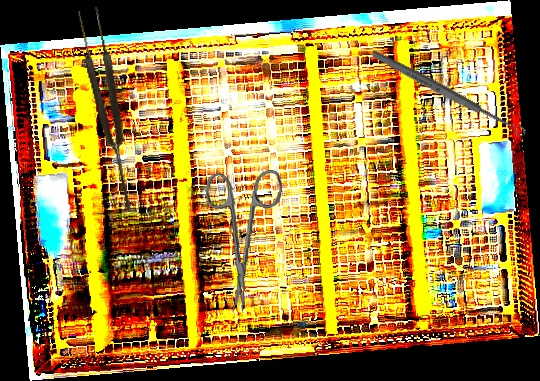Iris Scissors: (198, 165, 283, 316)
Surgical Spoon: (369, 48, 528, 139)
Tissue Forceps: (75, 6, 141, 215)
